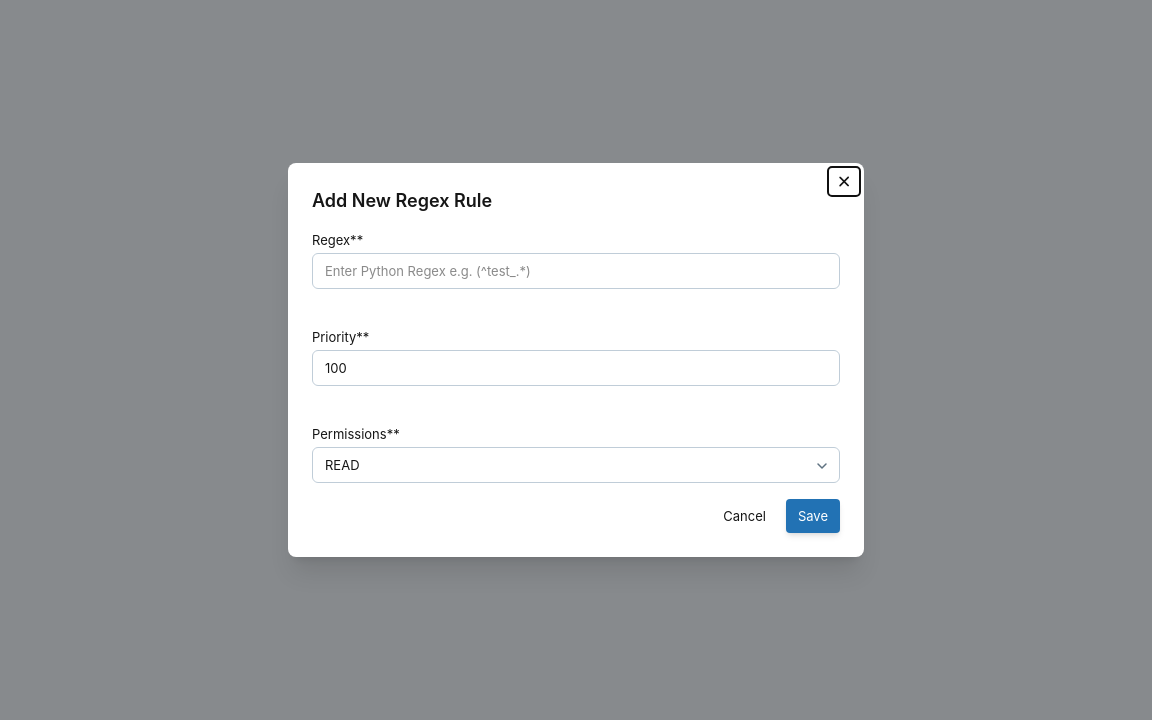
Scenario: AddRegexRuleModal › validates priority input
The width and height of the screenshot is (1152, 720).
Regex valid
Type ".*" into the field labelled "Regex**" at (576, 271), box [312,253,840,289]
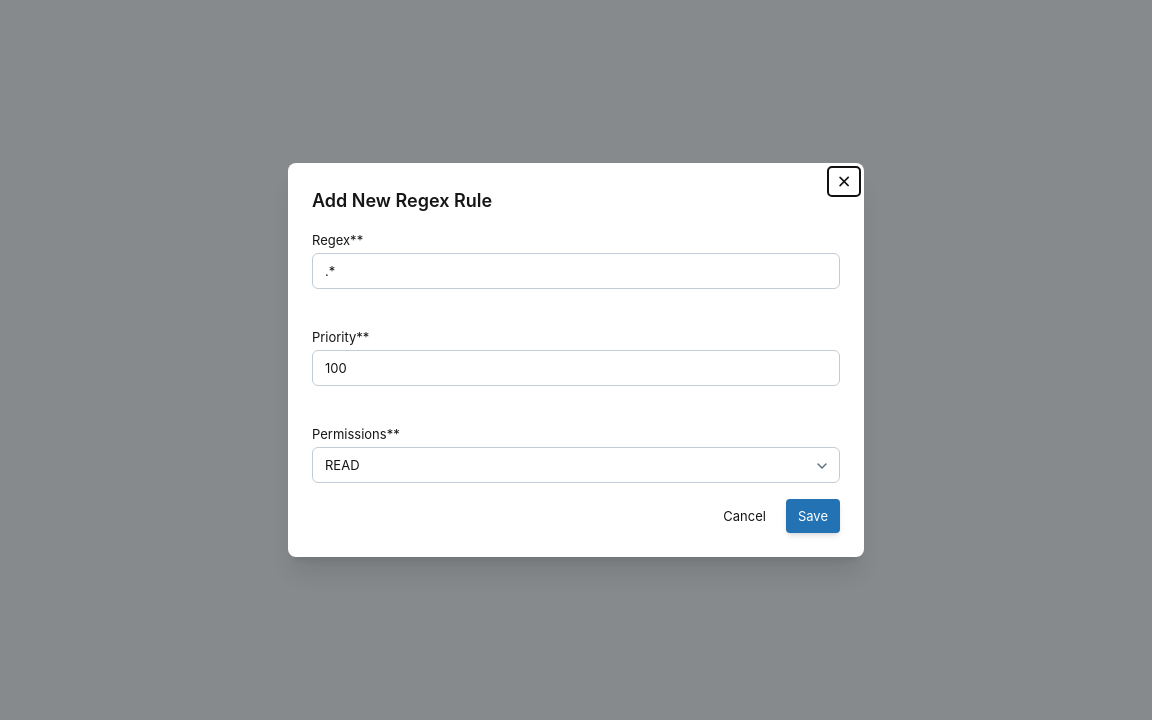
Replace the text in the number field labelled "Priority**" with "-1" at (576, 368), box [312,350,840,386]
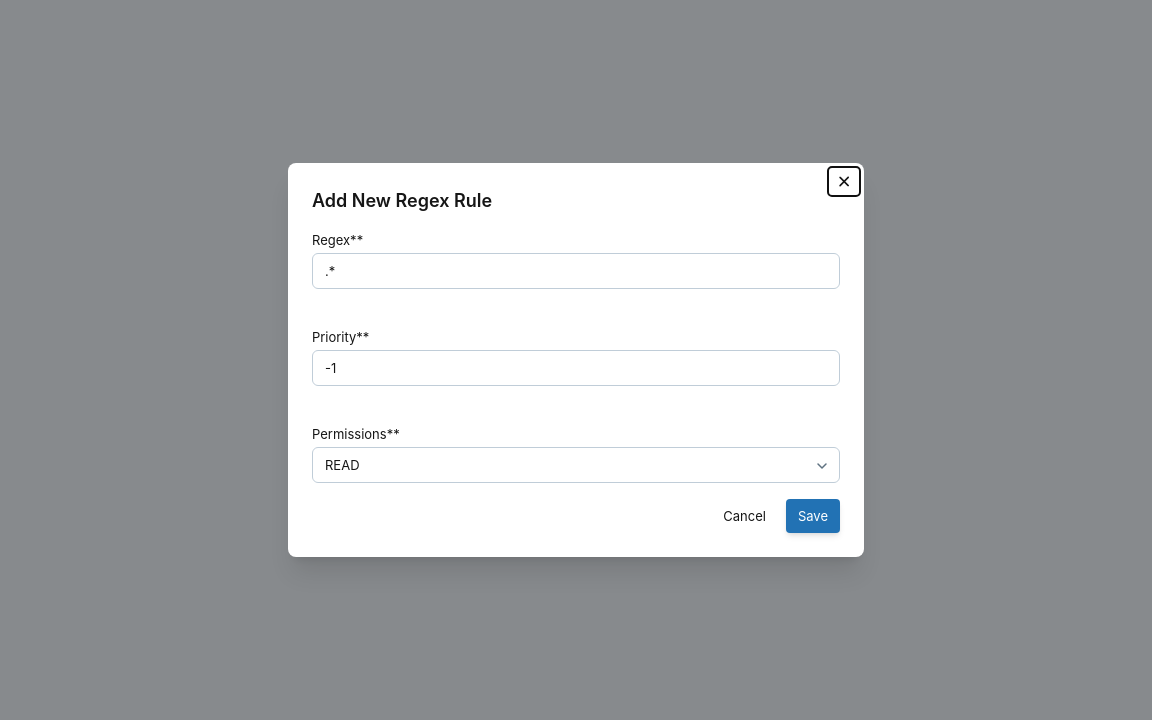
Click the button "Save" at (813, 516), box [786,499,840,533]
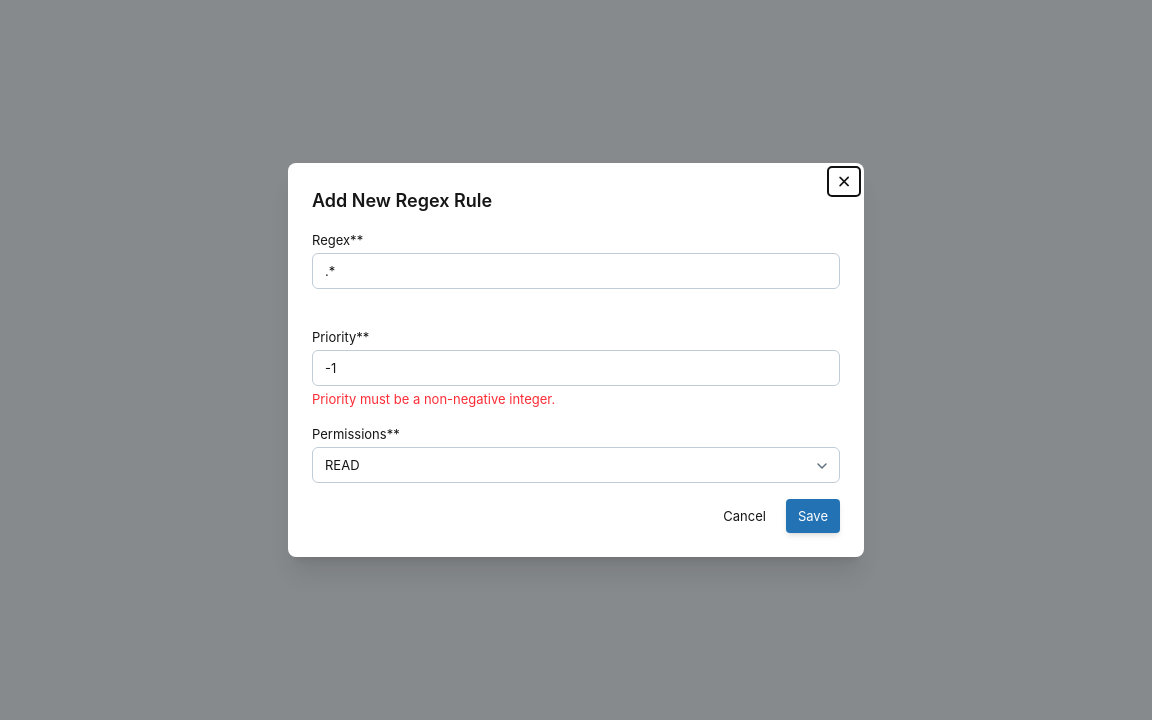
Now the text "Priority must be a non-negative integer." is shown, box [312,391,555,407]
